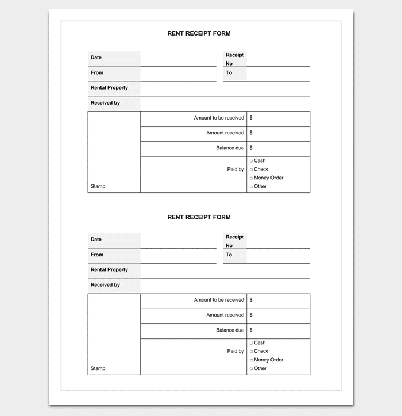checkbox: (249, 167, 253, 172), (249, 175, 253, 180), (249, 184, 253, 189), (249, 159, 253, 163), (249, 341, 253, 345), (249, 349, 253, 353), (249, 358, 253, 362), (249, 367, 253, 371)
textbox: (86, 292, 142, 378), (87, 110, 143, 195), (245, 139, 313, 159), (245, 291, 313, 311), (245, 321, 312, 341), (245, 108, 311, 128), (244, 124, 311, 143), (246, 307, 311, 326)
textline: (137, 84, 313, 100), (137, 98, 311, 114), (138, 281, 313, 296), (138, 266, 311, 281), (138, 50, 217, 69), (139, 233, 218, 252), (245, 49, 311, 70), (137, 69, 218, 84), (246, 234, 312, 252), (245, 68, 313, 84), (138, 252, 218, 265), (245, 251, 311, 265)
